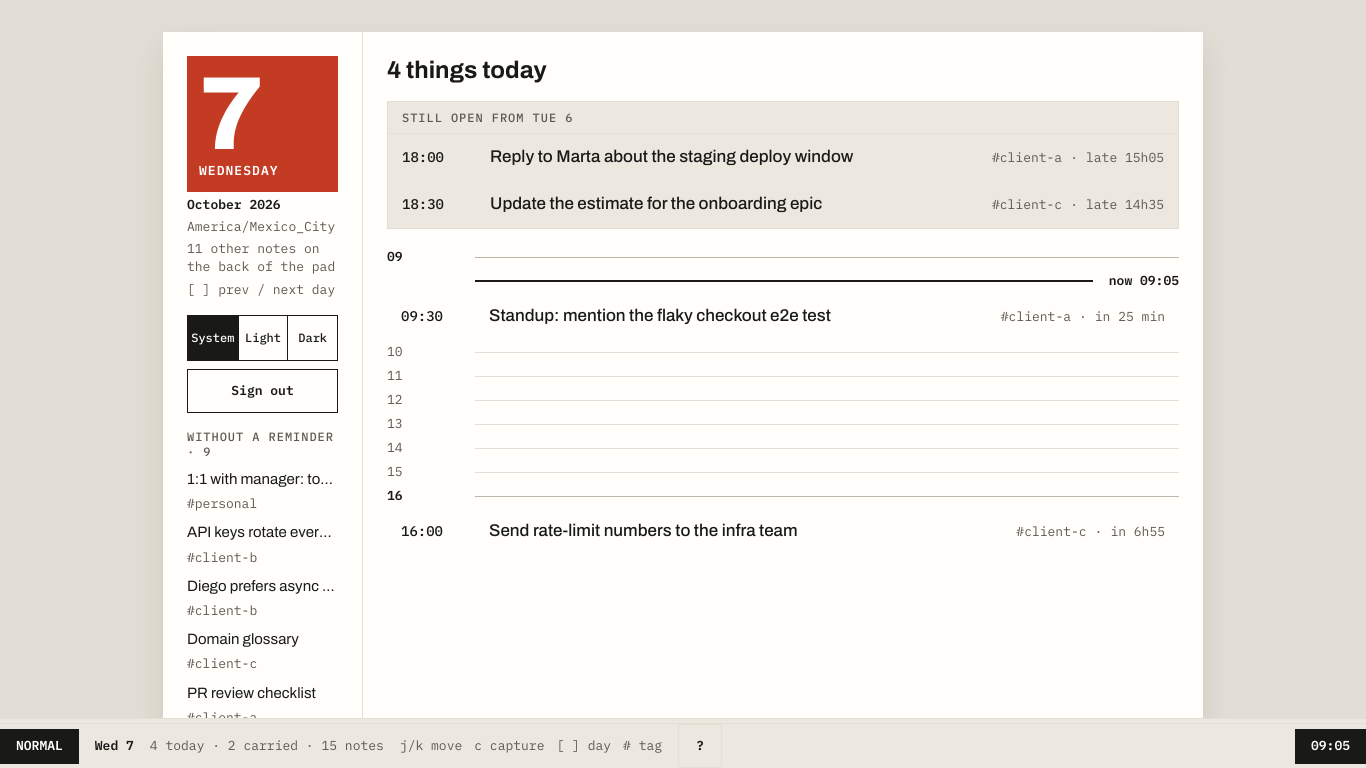
capture from the Today page › the page keys sleep while the bar is open and esc closes it
The image size is (1366, 768).
Check: the heading "4 things today" is shown, box [387,57,547,83]
Type keys "c"
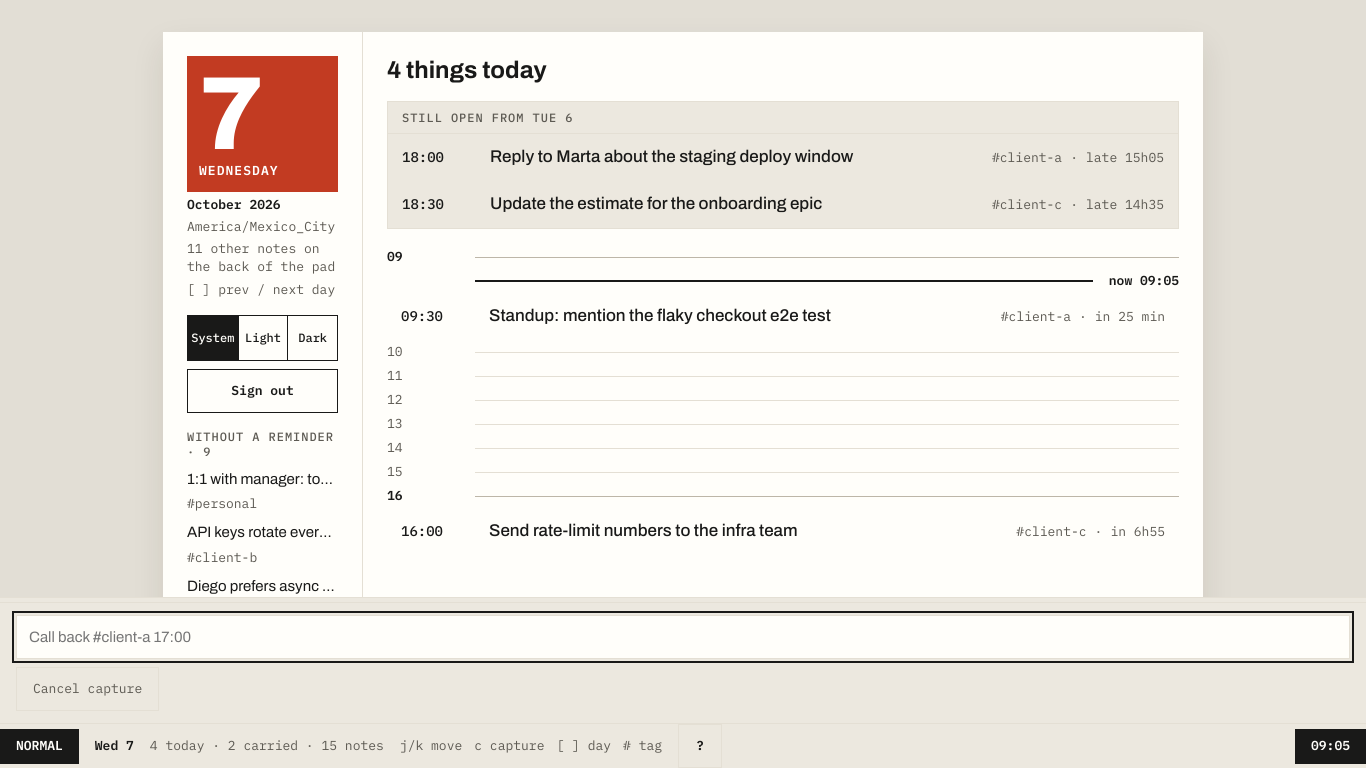
In the field named "Capture a note": point(683, 637) [16,615,1350,659], type "x"
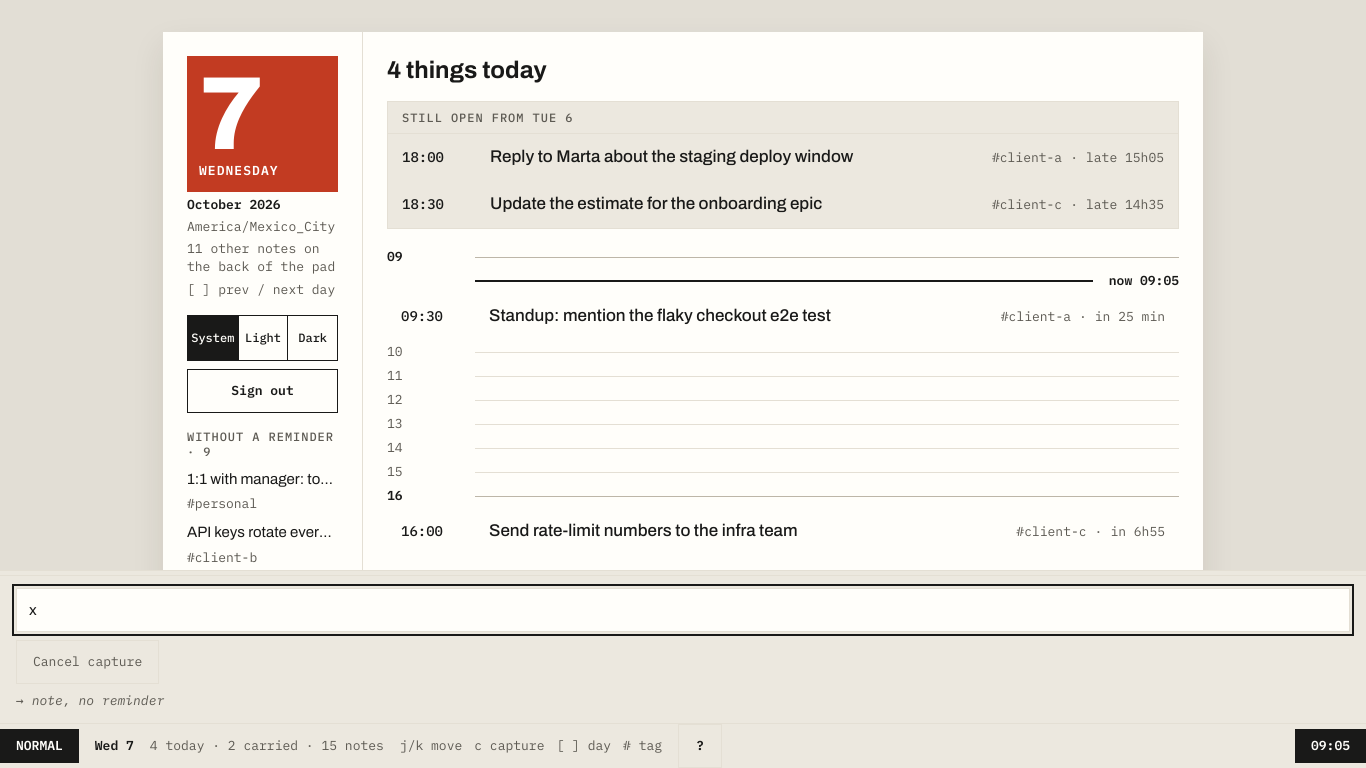
Press Escape
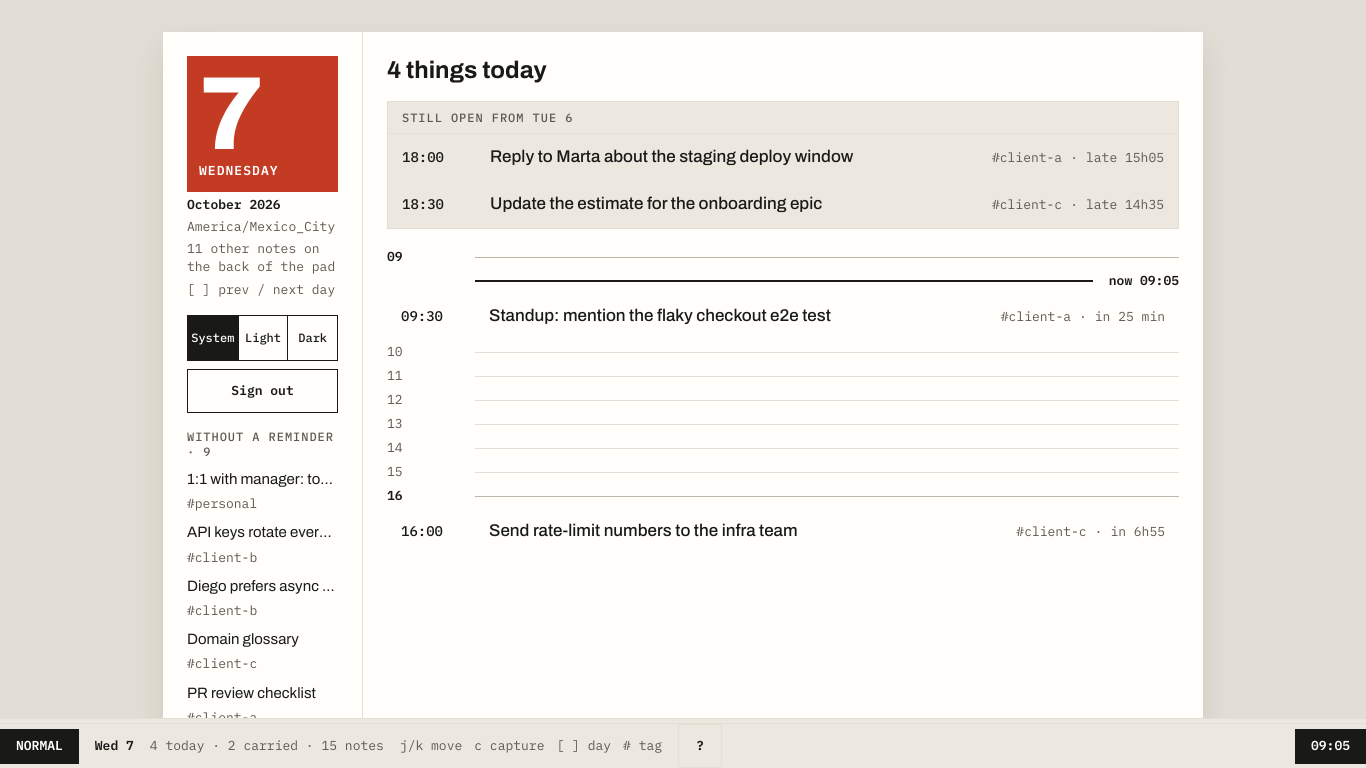
Check: the field is gone
